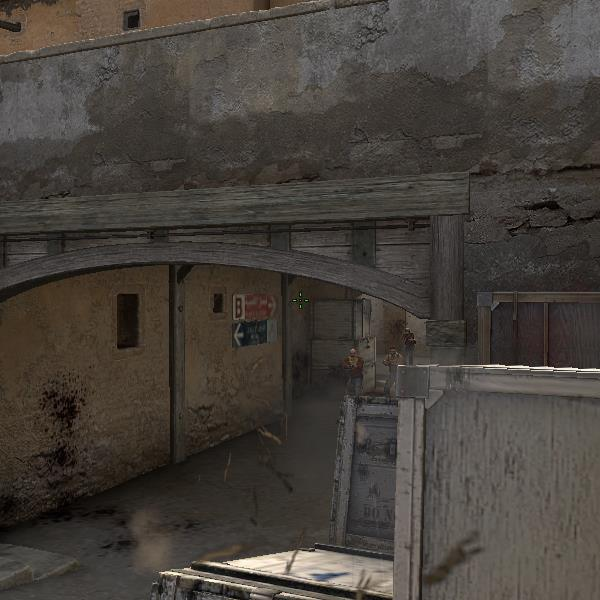t_body: (381, 344, 404, 393)
t_head: (386, 344, 399, 357)
